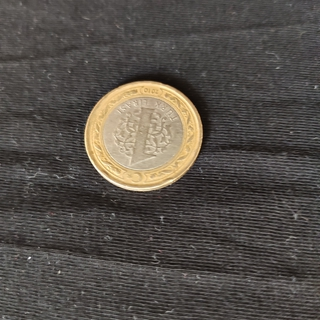1TL: (83, 78, 205, 193)
